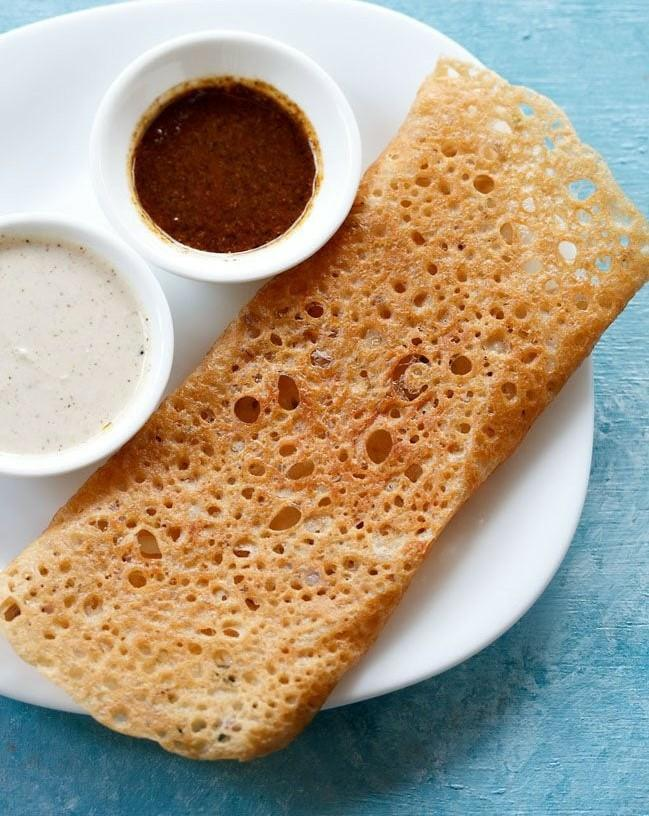Dosa: (3, 58, 649, 761)
